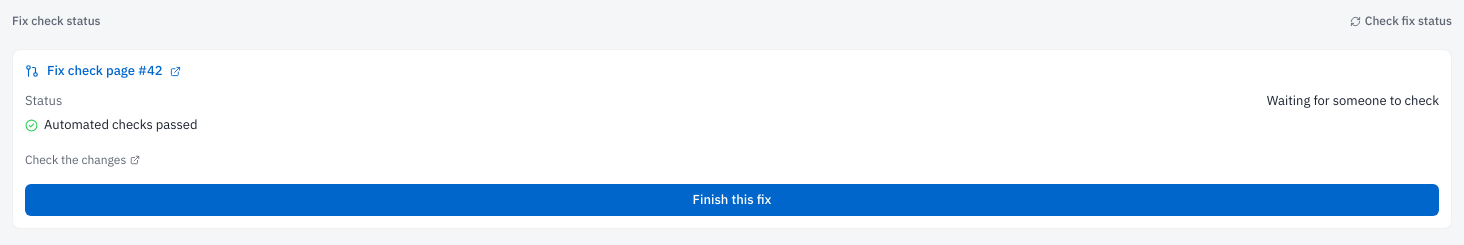
it: ReviewSnapshotPanel › enables Approve when checks are green and the change is not sensitive
Click the button with test id "review-approve": x=732, y=200 [25,184,1439,216]
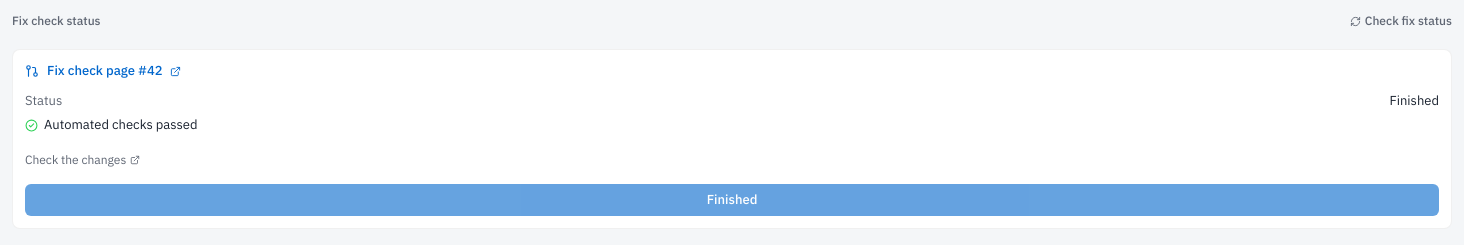
Result: the button with test id "review-approve" reads "Finished" at [25,184,1439,216]
Result: the button with test id "review-approve" is disabled at [25,184,1439,216]
